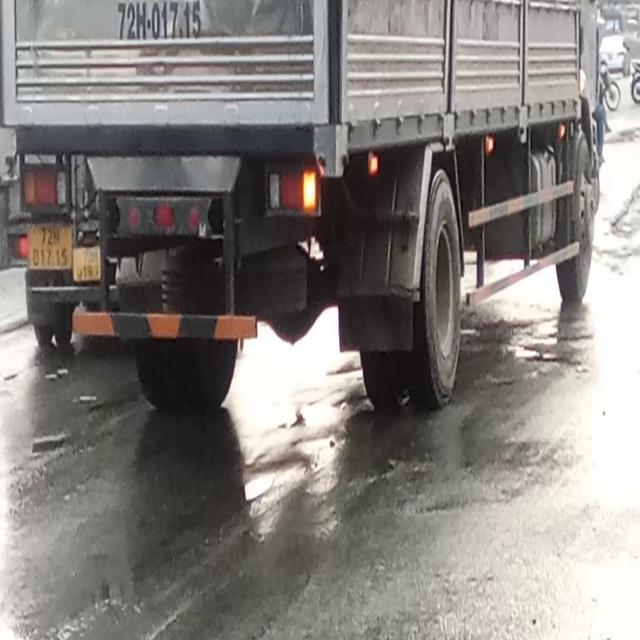bien_vang: (27, 222, 67, 270), (72, 249, 104, 289)
